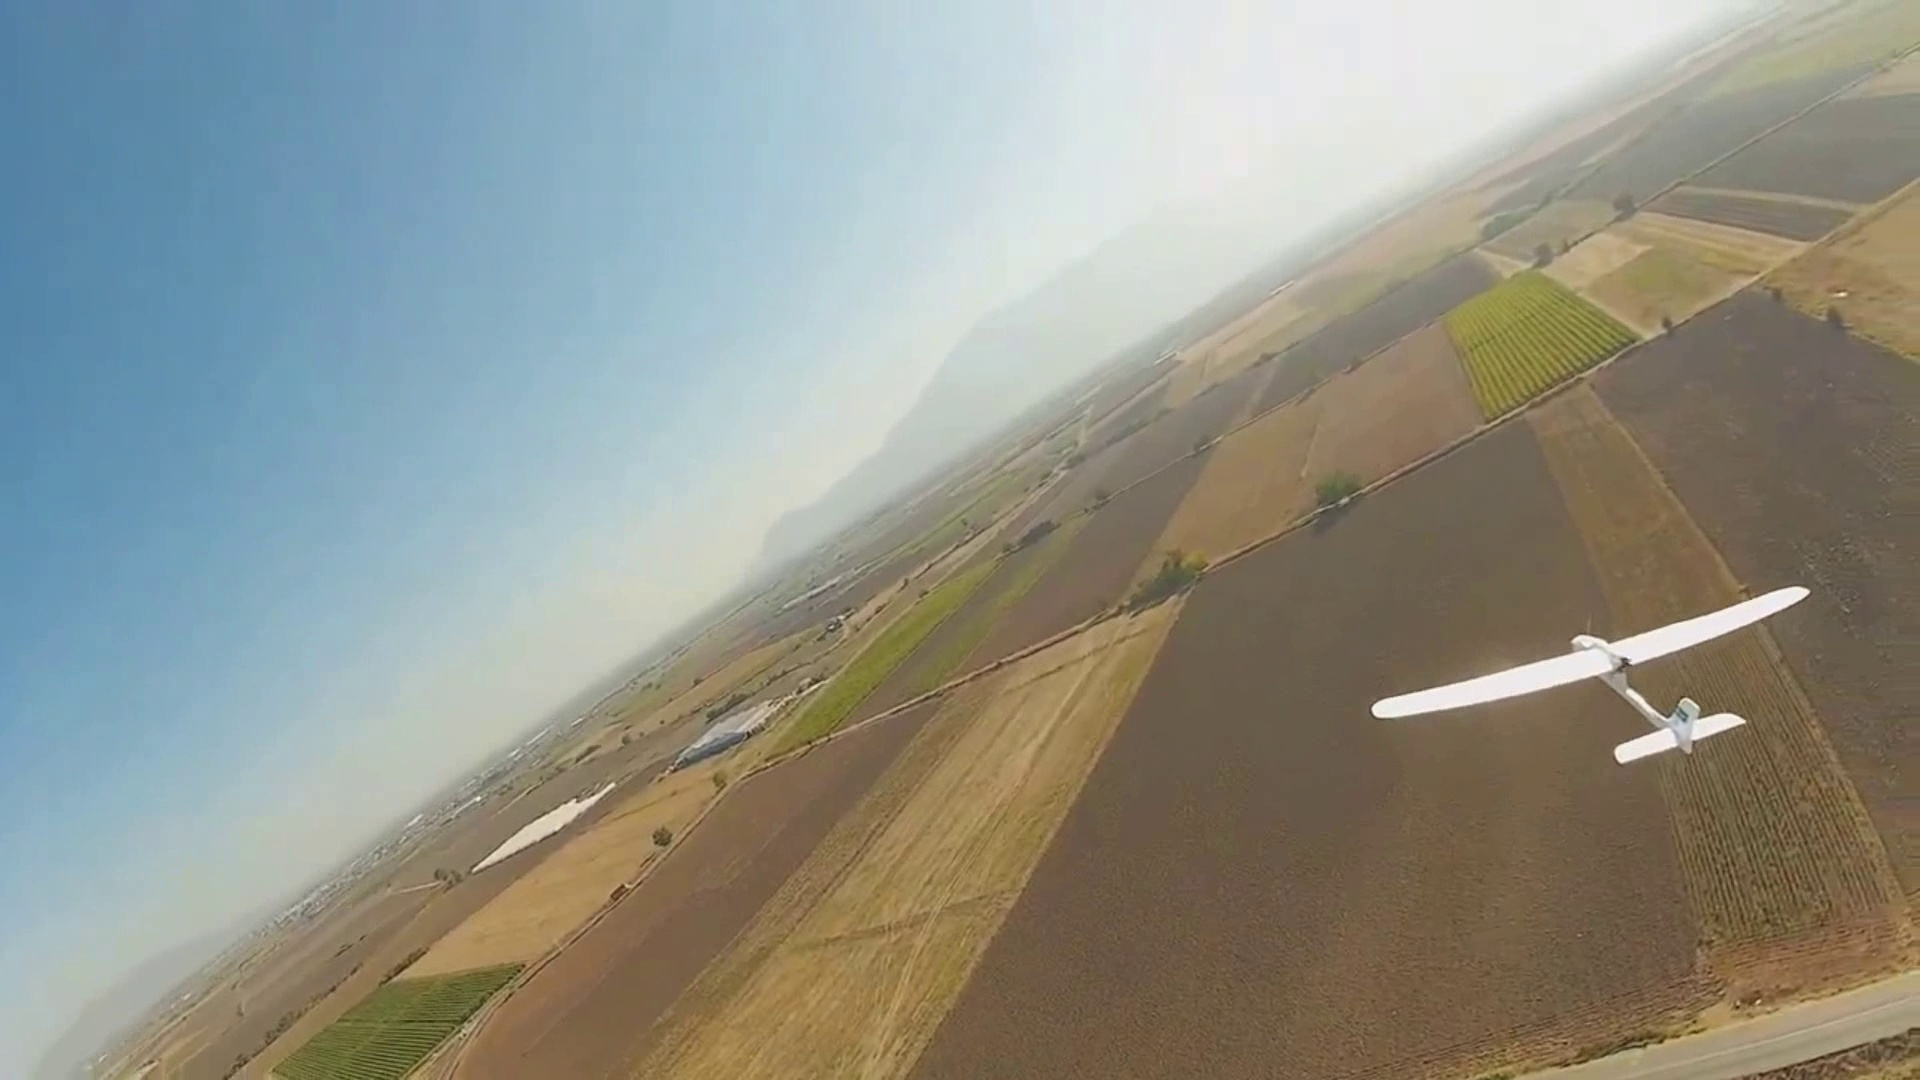airplane: (13, 20, 1911, 1067), (1369, 584, 1811, 766)
